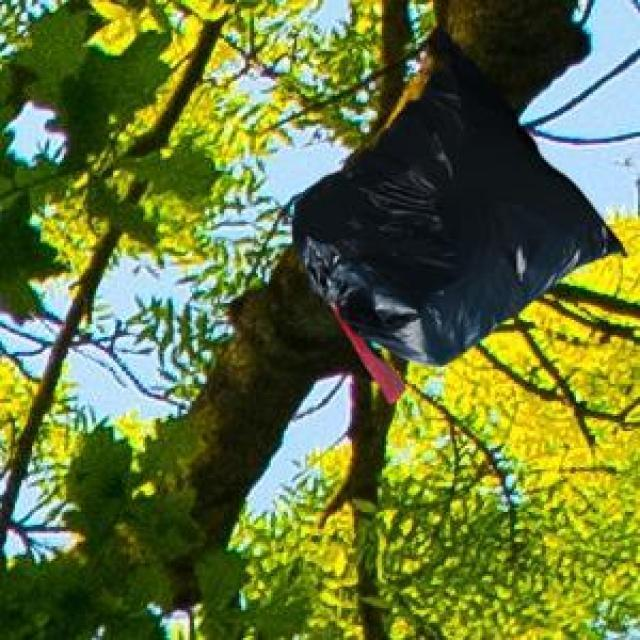waste: (292, 29, 624, 401), (292, 32, 621, 363)
